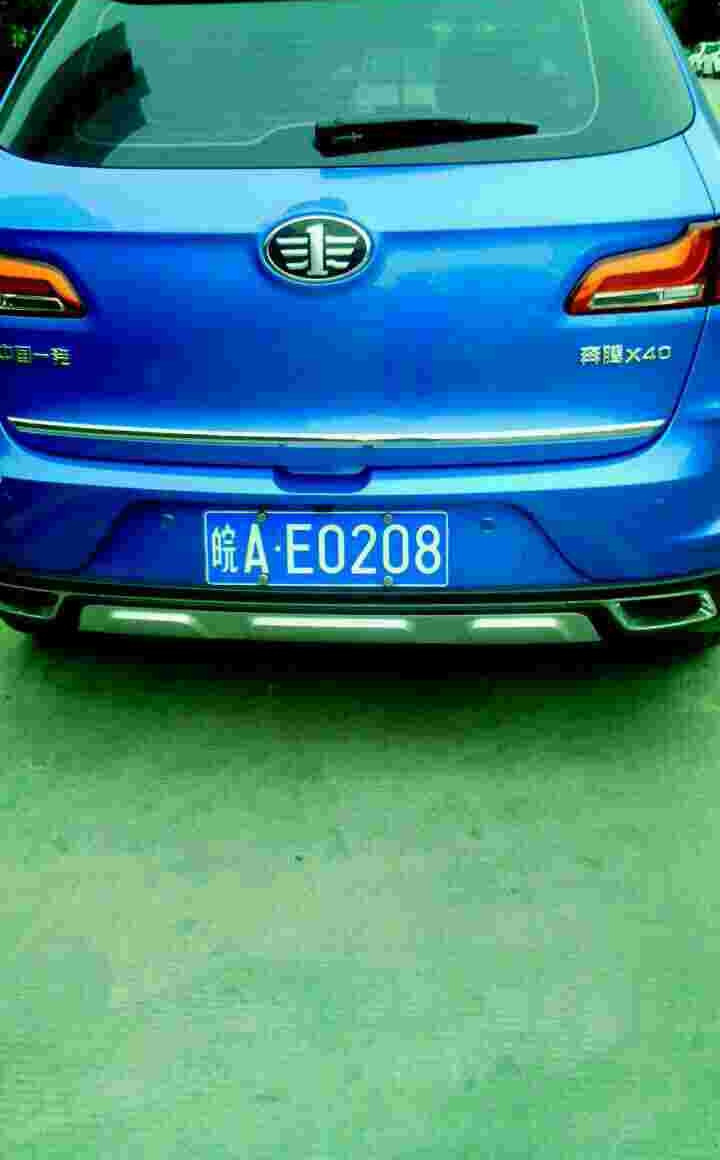plate: (204, 507, 454, 591)
